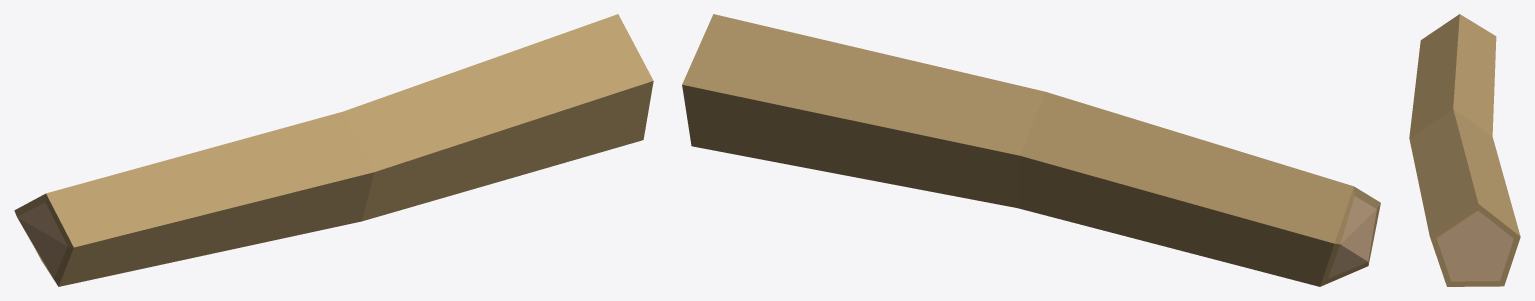
Rendered from Acacia_Log_04.fbx.
3 views of the same model, side by side, from view 1: azimuth 30°, elevation 25°; view 2: azimuth 150°, elevation 25°; view 3: azimuth 270°, elevation 25° (orthographic). The views are drawn at different scales.
Visible parts, largest first — view 1: Acacia_Log_04; view 2: Acacia_Log_04; view 3: Acacia_Log_04.
Boxes of the visible parts, box(x1,y1,x2,y2) form: Acacia_Log_04: box(14, 14, 653, 286); Acacia_Log_04: box(682, 14, 1380, 286); Acacia_Log_04: box(1409, 14, 1520, 286).
Bounding box in the file's own units: 175 × 31.19 × 38.45.
